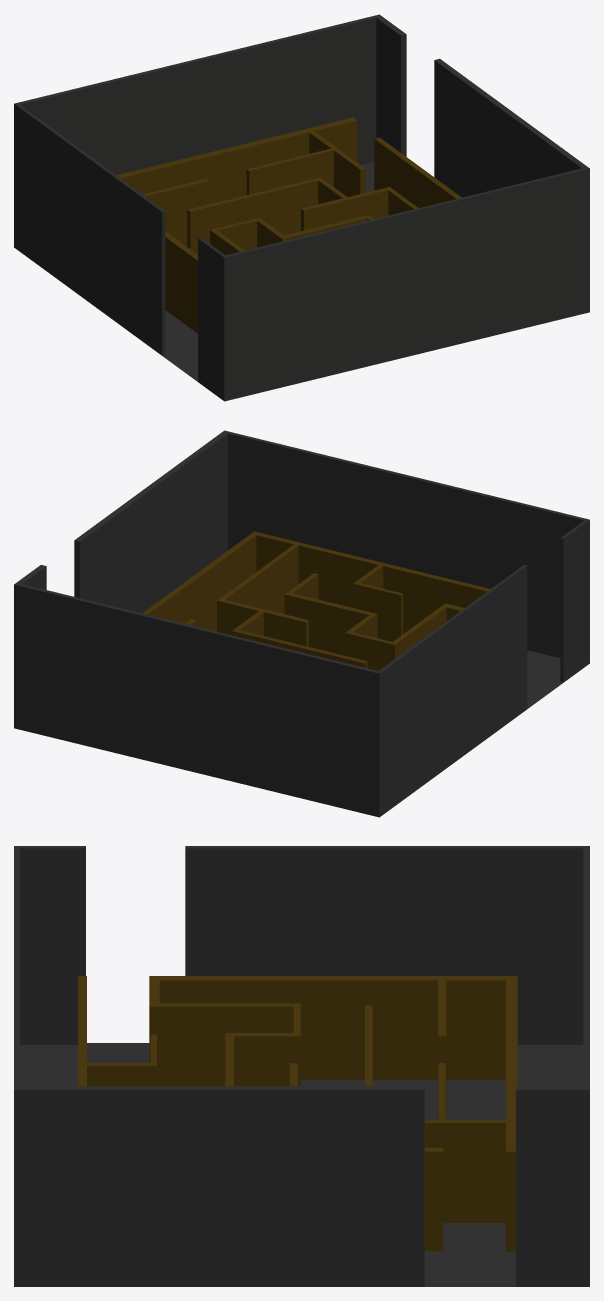
Rendered from LABIRENT3.fbx.
3 renders of one model, top to bottom at view 1: azimuth 30°, elevation 25°; view 2: azimuth 150°, elevation 25°; view 3: azimuth 270°, elevation 25°, orthographic. The views are drawn at different scales.
Visible parts, largest first — view 1: Plane, Cube; view 2: Plane, Cube; view 3: Plane, Cube.
Boxes of the visible parts, x1,y1,x2,y2 form: Plane: (14,14,589,401); Cube: (116,117,461,333); Plane: (14,430,589,817); Cube: (142,531,490,670); Plane: (14,846,589,1286); Cube: (78,976,517,1251).
Size of the model in its own units: 4451 by 1673 by 4438.
